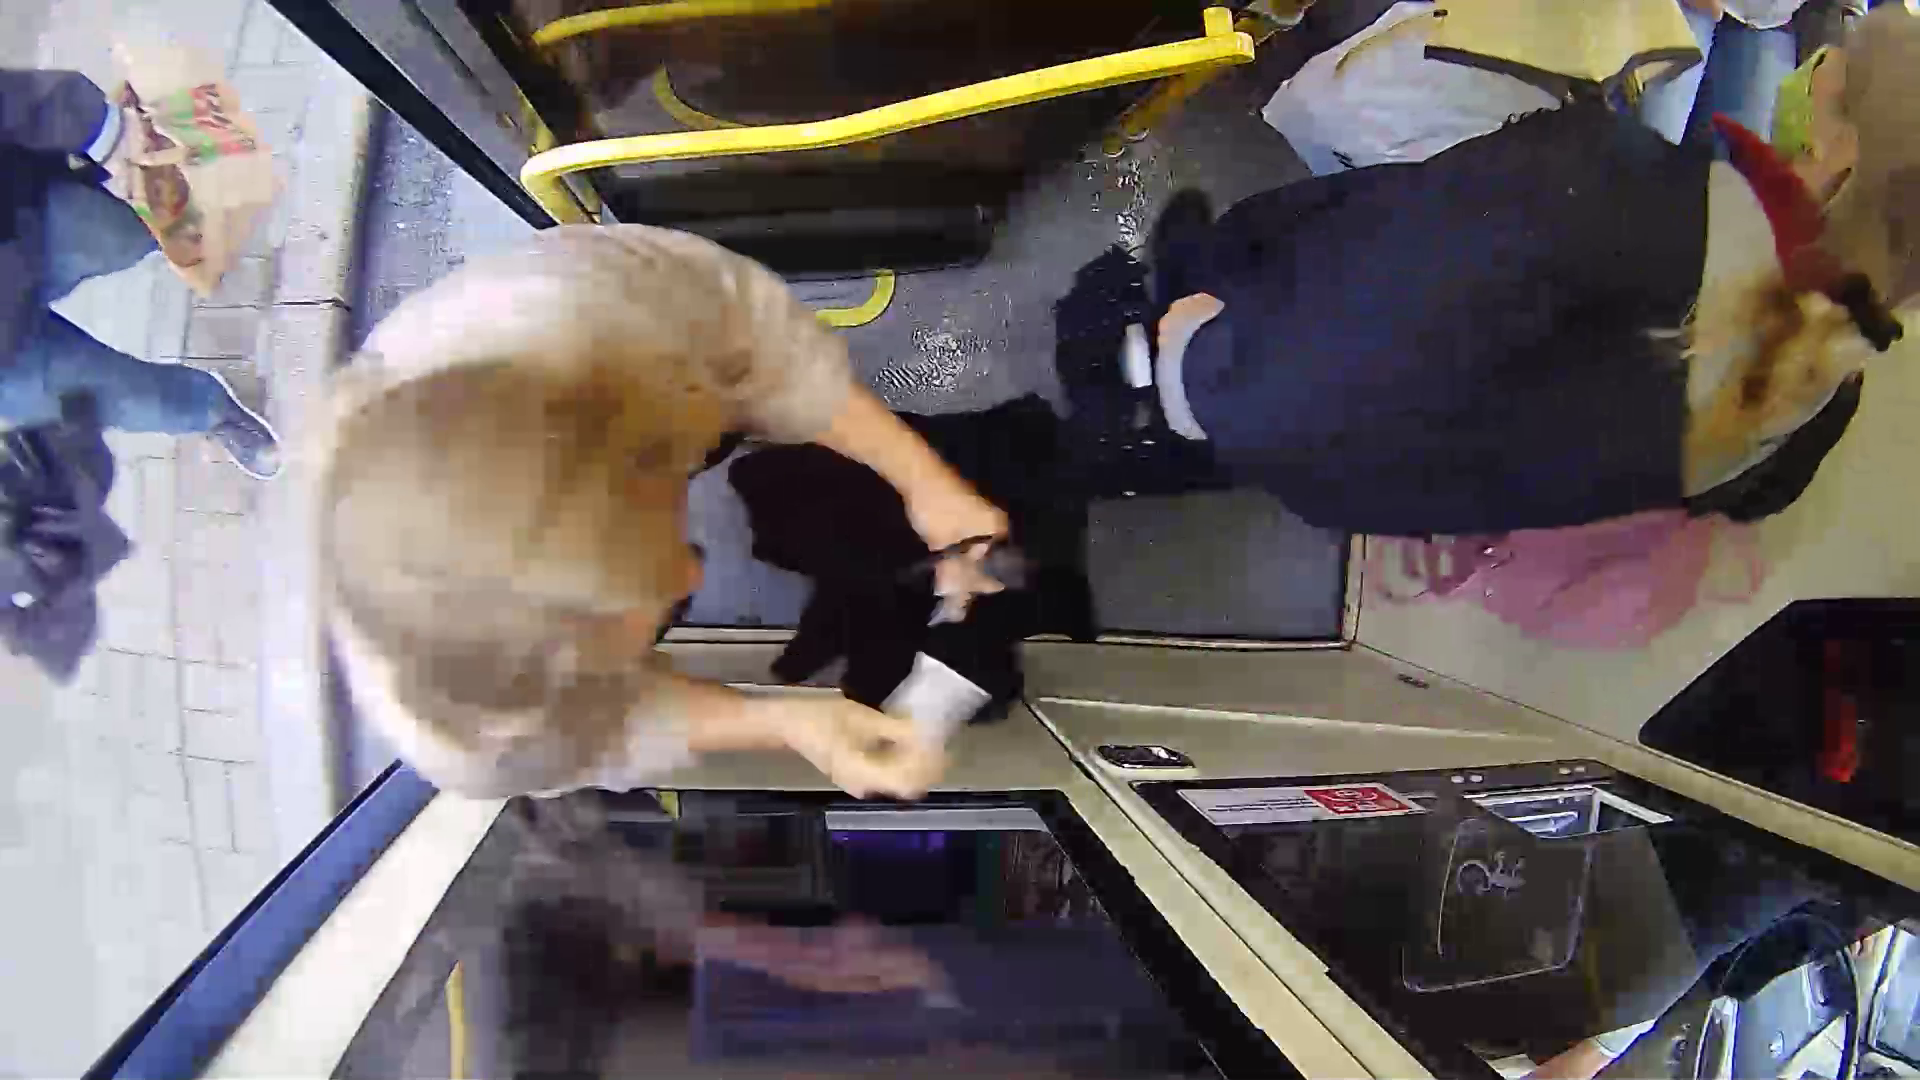person: (347, 164, 1080, 845), (1169, 31, 1883, 569)
